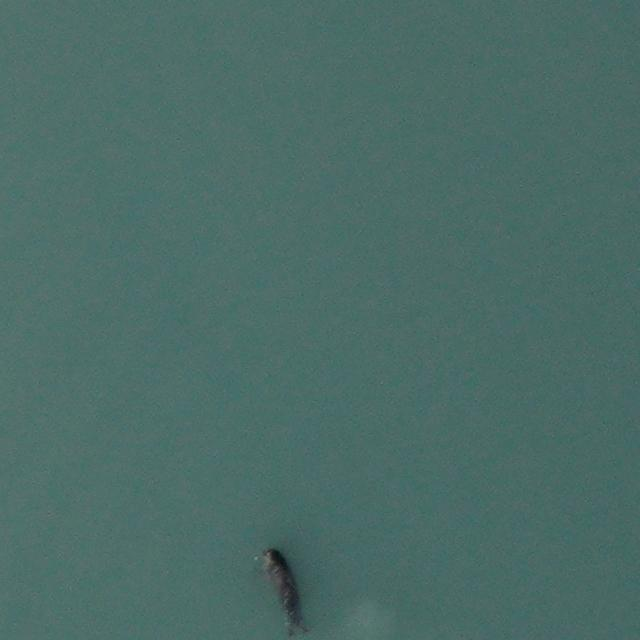seal: (253, 543, 313, 640)
